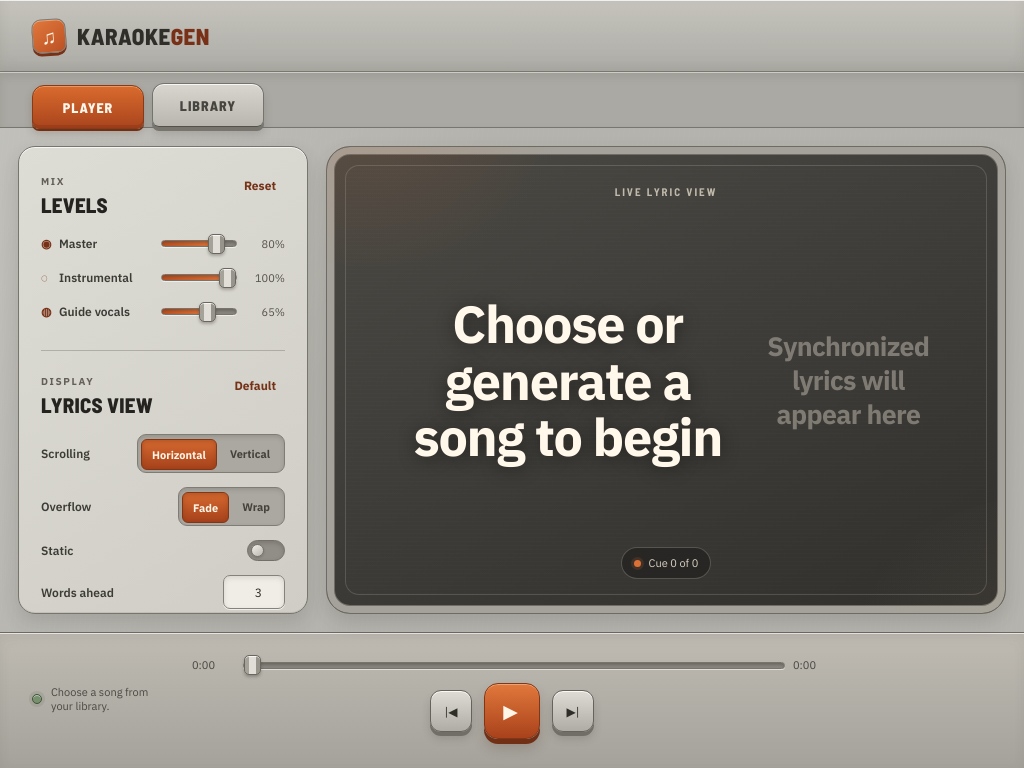
Scenario: disables loading for non-ready and incomplete songs
The width and height of the screenshot is (1024, 768).
What coordinates should you click on to do the following:
click the tab "Library"
I would click on:
 (208, 105)
Its box is [152,83,264,127].
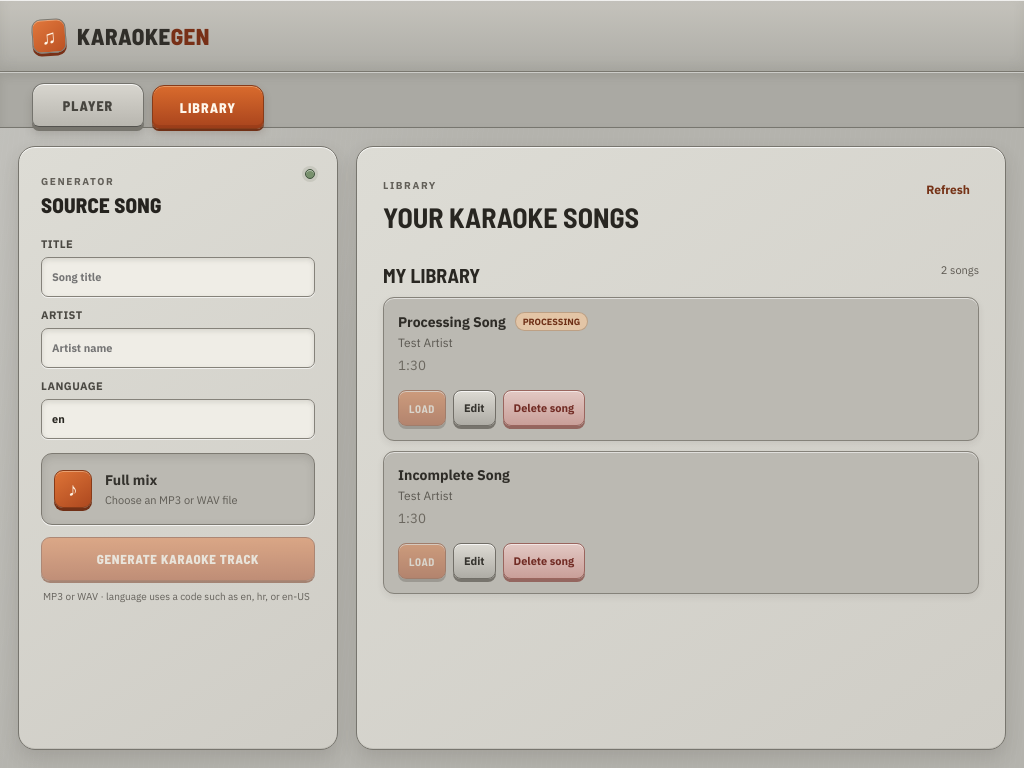
Now the text "processing" is shown, box [515,312,588,331]
Now the button "Load" below "Processing Song" is disabled, box [398,390,446,426]
Now the button "Load" below "Incomplete Song" is disabled, box [398,543,446,579]
